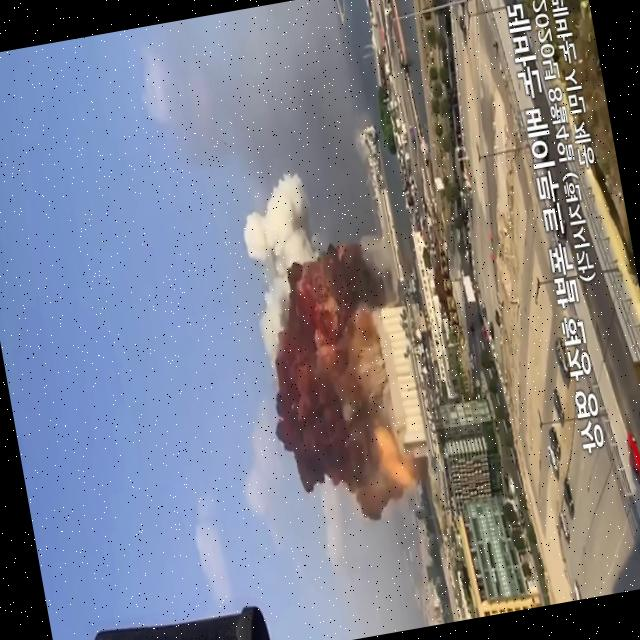explosion: (196, 143, 481, 578)
